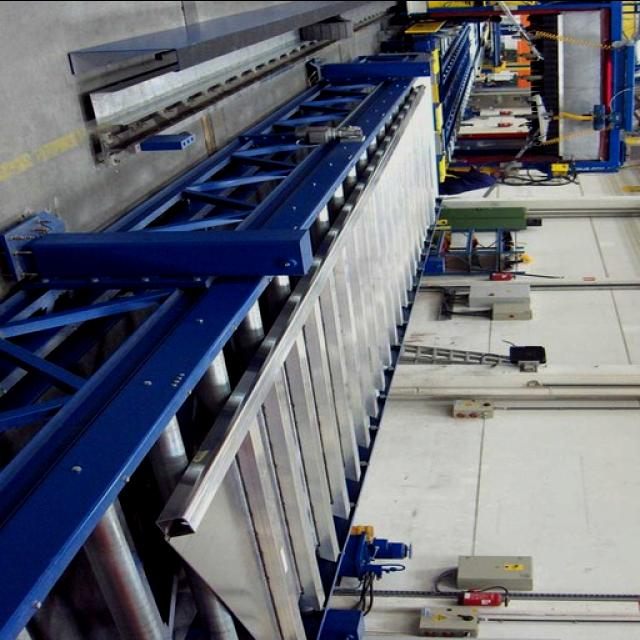conveyor: (171, 18, 487, 640)
